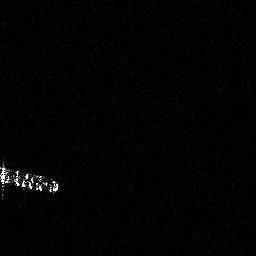ship: (1, 160, 62, 199)
